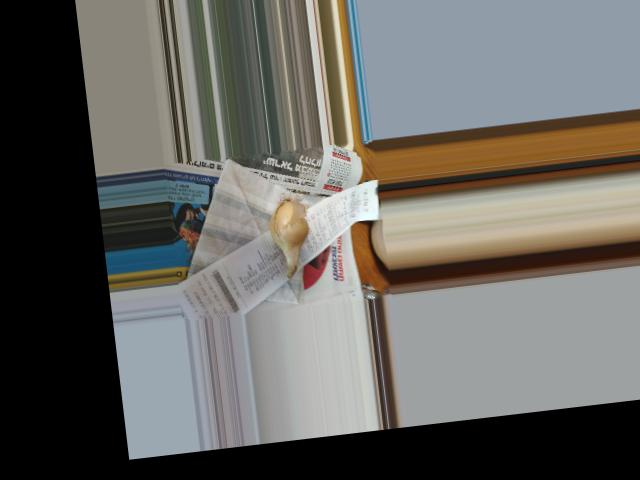onion: (266, 195, 314, 272)
